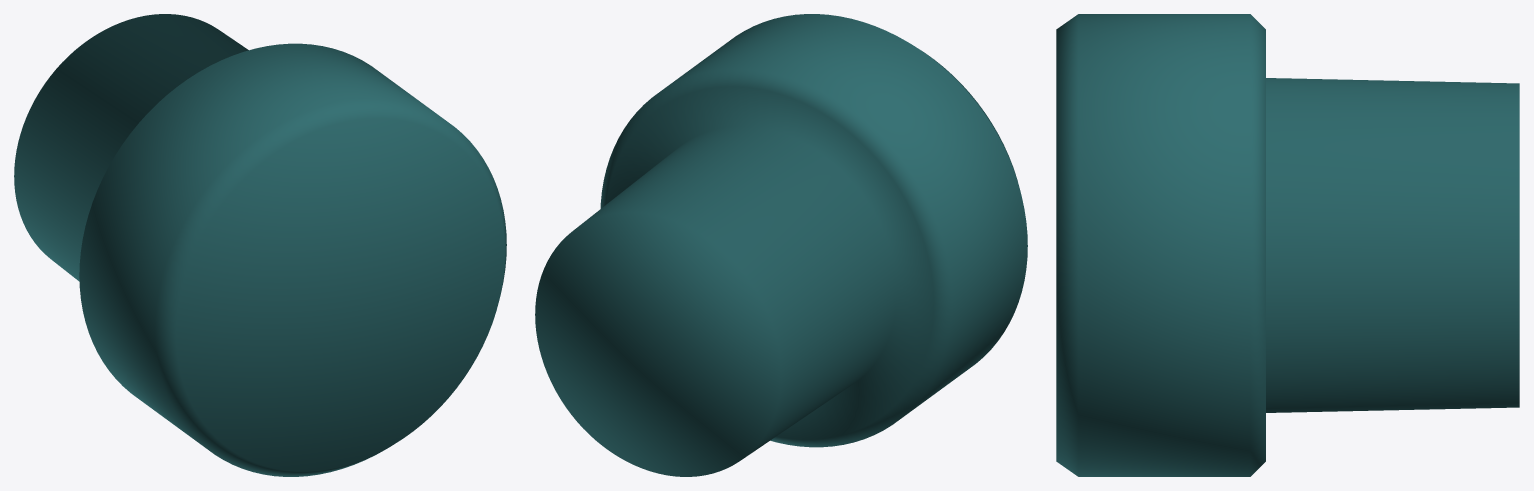
File: stopper.glb
The picture shows the model from 3 angles, left to right: view 1: azimuth 30°, elevation 25°; view 2: azimuth 150°, elevation 25°; view 3: azimuth 270°, elevation 25°; orthographic projection. The views are drawn at different scales.
Visible parts, largest first — view 1: Silicone stopper; view 2: Silicone stopper; view 3: Silicone stopper.
Part boxes in pixels (<box>): Silicone stopper: <box>14,14,506,476</box>; Silicone stopper: <box>535,14,1027,476</box>; Silicone stopper: <box>1056,14,1519,476</box>.
Size of the model in its own units: 0.021 by 0.021 by 0.021.
